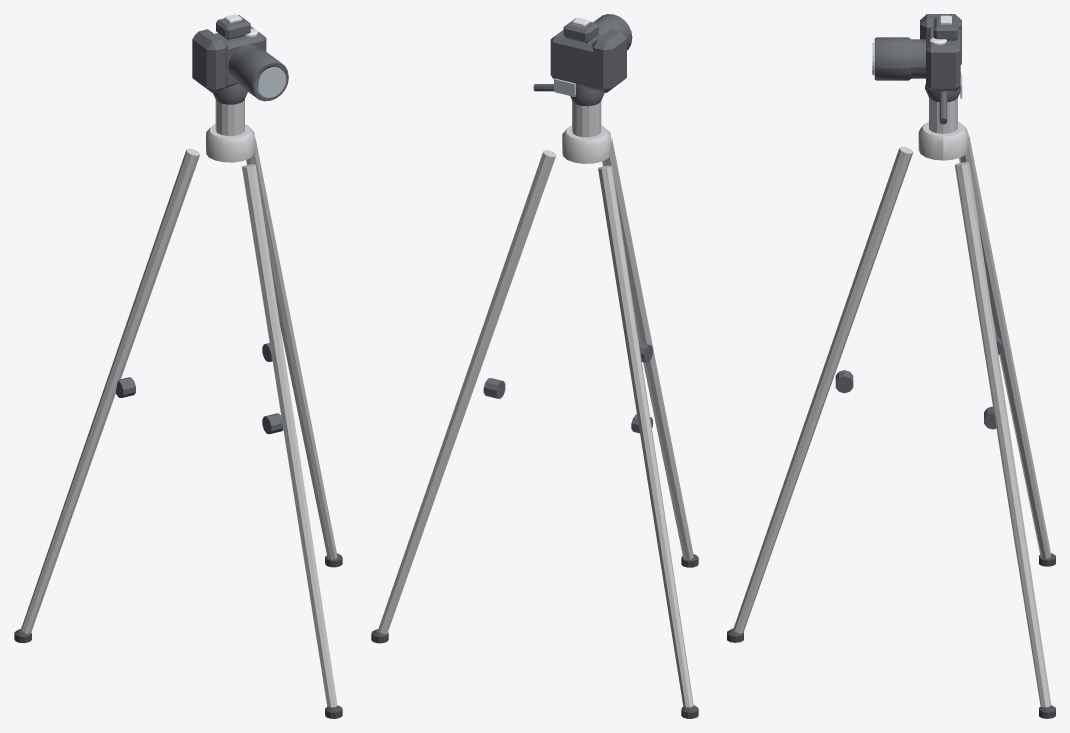
The model's file is police-station-and-detective-office-camera-on-tripod-60d9e444.glb.
3 renders of one model, left to right at view 1: azimuth 30°, elevation 25°; view 2: azimuth 150°, elevation 25°; view 3: azimuth 270°, elevation 25°, orthographic.
Parts seen in each view (by area): view 1: camera-on-tripod; view 2: camera-on-tripod; view 3: camera-on-tripod.
Part boxes in pixels (x1=…): camera-on-tripod: x1=14, y1=14, x2=342, y2=718; camera-on-tripod: x1=371, y1=14, x2=698, y2=718; camera-on-tripod: x1=727, y1=14, x2=1055, y2=718.
Size of the model in its own units: 0.7635 by 1.39 by 0.6642.
